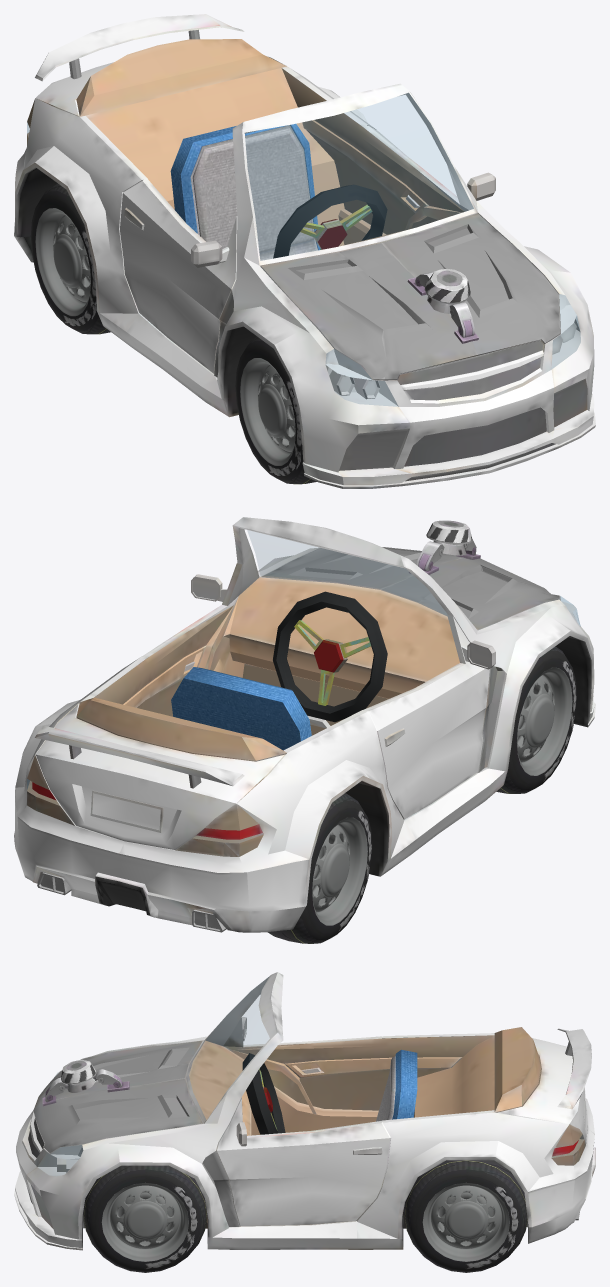
The model's file is 14-Merc-Stock-White.glb.
The picture shows the model from 3 angles, top to bottom: view 1: azimuth 30°, elevation 25°; view 2: azimuth 150°, elevation 25°; view 3: azimuth 270°, elevation 25°; orthographic projection. The views are drawn at different scales.
Visible parts, largest first — view 1: Merc, Glass_001, Regular, Aero (×2), Tire (×2), Torus, WEAPON MOUNT-Default_OBJ_3, INT_WHEEL_005, arm1.2-Default_OBJ_3; view 2: Merc, Aero (×2), Regular, Glass_001, Tire (×2), Torus, INT_WHEEL_005, WEAPON MOUNT-Default_OBJ_3, Engine_001; view 3: Merc, Tire (×2), Aero (×2), Glass_001, Regular, Torus, WEAPON MOUNT-Default_OBJ_3.
Part boxes in pixels (bbox=[...]): Merc: bbox=[14, 14, 595, 488]; Glass_001: bbox=[27, 93, 580, 406]; Regular: bbox=[170, 123, 320, 260]; Aero (×2): bbox=[35, 208, 295, 465]; Tire (×2): bbox=[30, 183, 316, 484]; Torus: bbox=[273, 184, 387, 258]; WEAPON MOUNT-Default_OBJ_3: bbox=[424, 269, 470, 313]; INT_WHEEL_005: bbox=[300, 204, 372, 249]; arm1.2-Default_OBJ_3: bbox=[449, 302, 474, 337]; Merc: bbox=[14, 517, 595, 932]; Aero (×2): bbox=[312, 667, 572, 925]; Regular: bbox=[171, 667, 311, 750]; Glass_001: bbox=[27, 530, 580, 842]; Tire (×2): bbox=[268, 646, 577, 943]; Torus: bbox=[273, 591, 387, 722]; INT_WHEEL_005: bbox=[294, 620, 371, 705]; WEAPON MOUNT-Default_OBJ_3: bbox=[426, 520, 472, 555]; Engine_001: bbox=[37, 872, 226, 932]; Merc: bbox=[14, 972, 595, 1250]; Tire (×2): bbox=[83, 1160, 527, 1272]; Aero (×2): bbox=[101, 1182, 509, 1261]; Glass_001: bbox=[38, 977, 583, 1175]; Regular: bbox=[376, 1049, 417, 1121]; Torus: bbox=[242, 1053, 285, 1134]; WEAPON MOUNT-Default_OBJ_3: bbox=[61, 1059, 96, 1092].
Size of the model in its own units: 5.11 by 4.7 by 10.87.
Materials: 9 (8 with a texture image).
